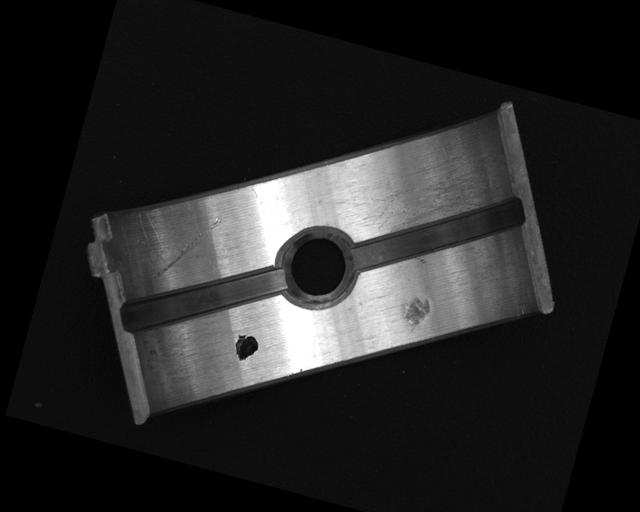blot: (230, 331, 261, 364)
bruise: (398, 292, 433, 336)
gap: (348, 159, 528, 310), (117, 233, 290, 369)
hole: (272, 217, 362, 316)
nick: (154, 203, 224, 293)
scratch: (361, 128, 506, 257)
